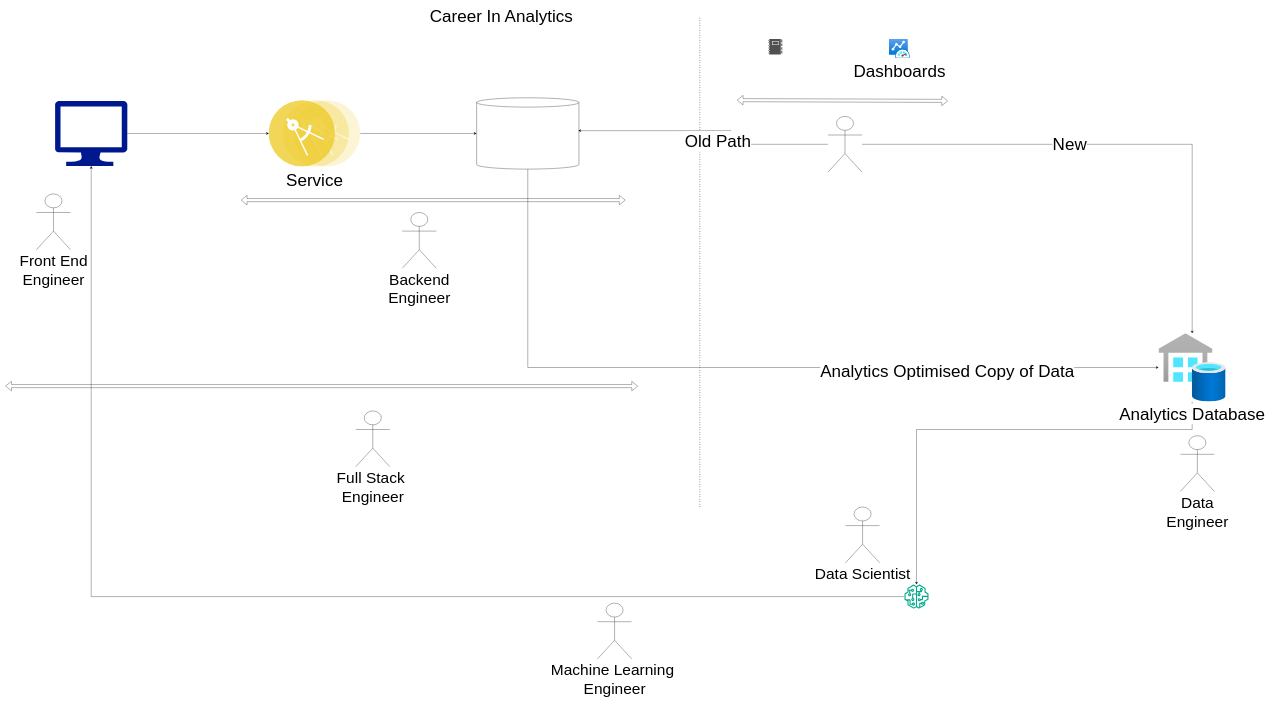
This 1270x703 diagram has some shape labels left out. Each missing label, with the centre of its shape:
Business Analyst: point 845,144
Database: point 527,133
Front End (Browser): point 91,133
ML Model: point 916,596
Reports: point 775,46
